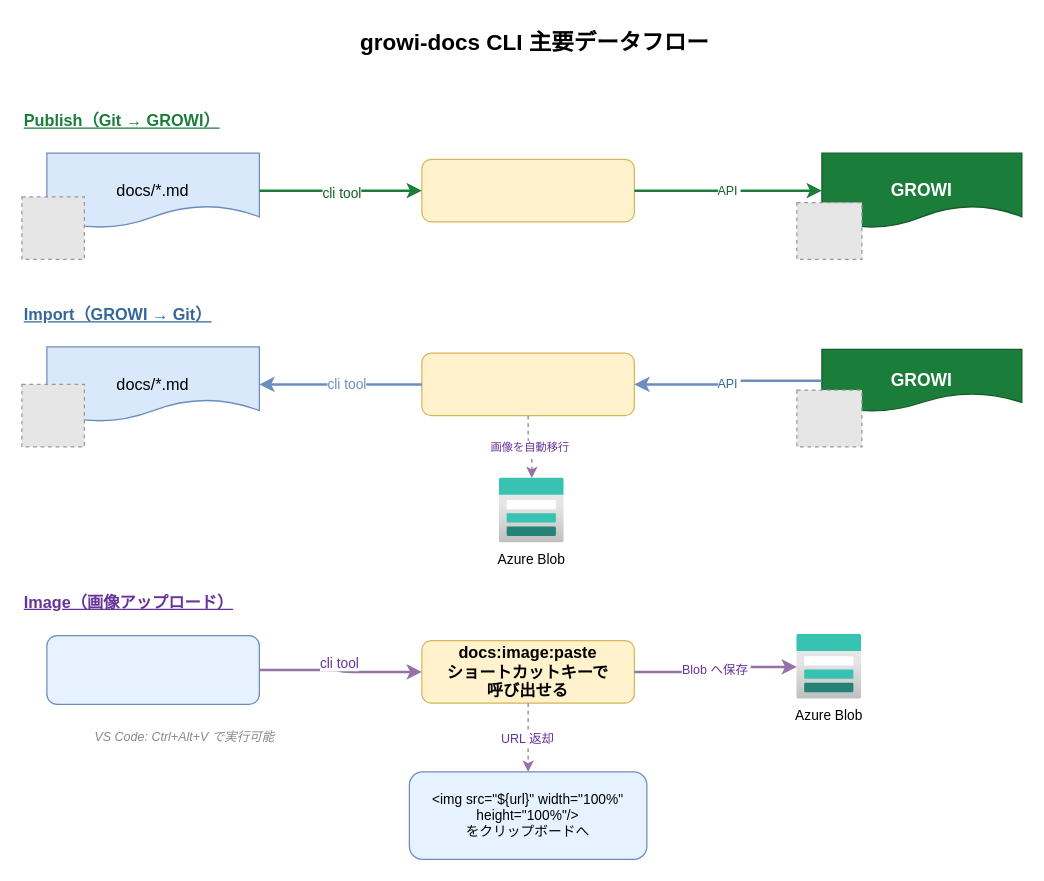
The diagram is 1044 pixels wide and 881 high, and some of its shapes have lost their labels. Grey dashed boxes stand in for pictures. The centre of each missing label's shape, as x and y in pixels:
docs:import: [527,384]
docs:publish: [527,190]
クリップボードにある画像 or ファイル: [152,669]
